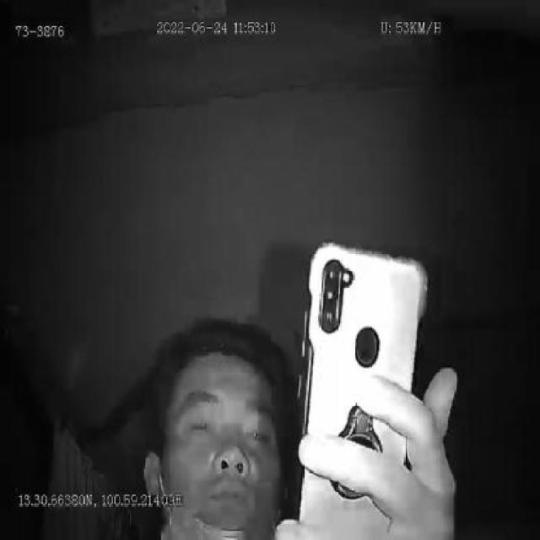phone: (296, 237, 425, 540)
